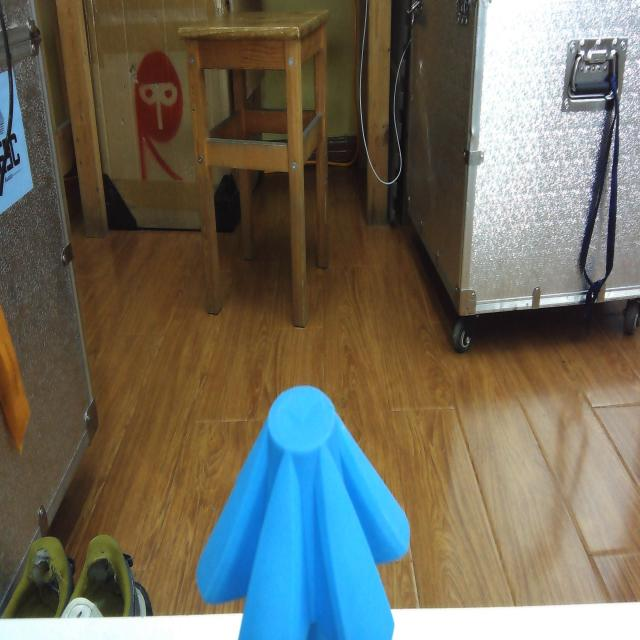zblue-Stake-Head: (197, 386, 410, 640)
